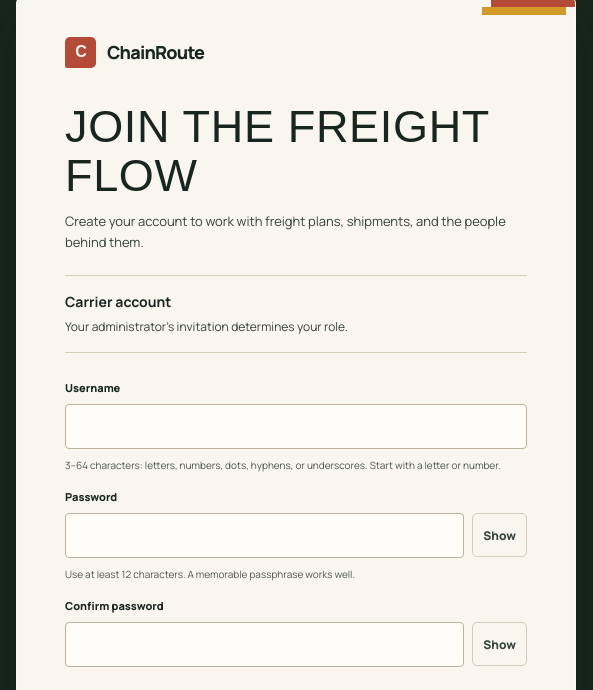
account signup › recovers when an invitation becomes unavailable after preview
expect the text "Carrier account" is shown: met, box x1=65 y1=292 x2=171 y2=311
Type "new.shipper" into the field labelled "Username". click: (296, 426)
box: x1=65 y1=404 x2=527 y2=449
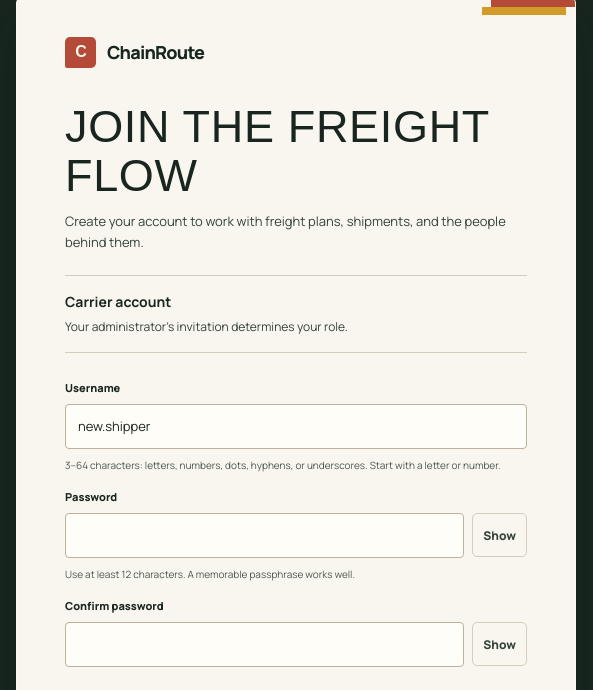
Type "my long freight passphrase" into the password field labelled "Password". click: (265, 536)
box: x1=65 y1=513 x2=464 y2=558
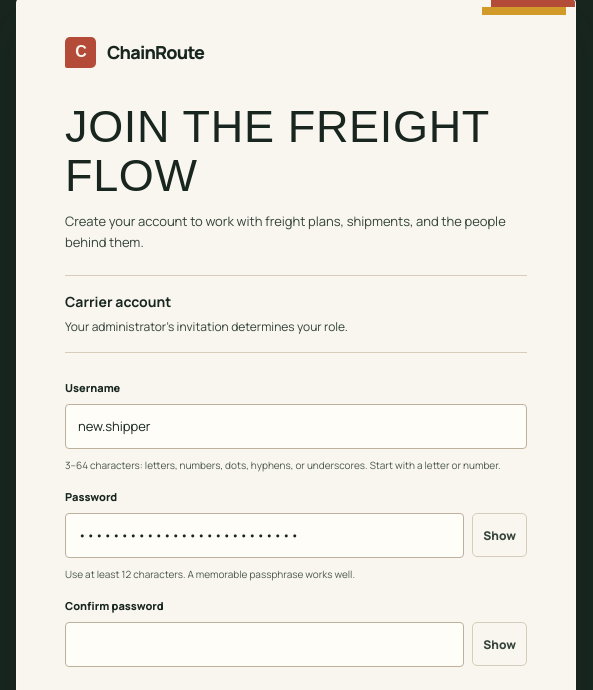
Type "my long freight passphrase" into the password field labelled "Confirm password". click: (265, 644)
box: x1=65 y1=622 x2=464 y2=667
(page scrolled)
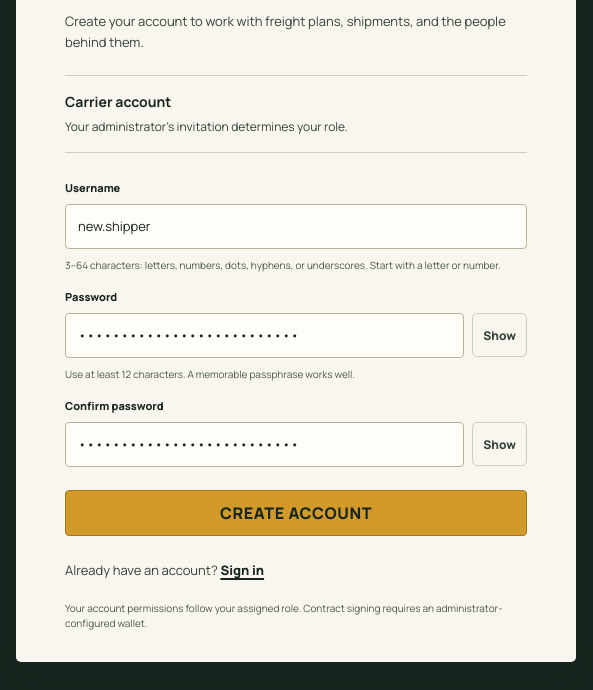
Click the button "Create account". click: (296, 513)
box: x1=65 y1=490 x2=527 y2=536
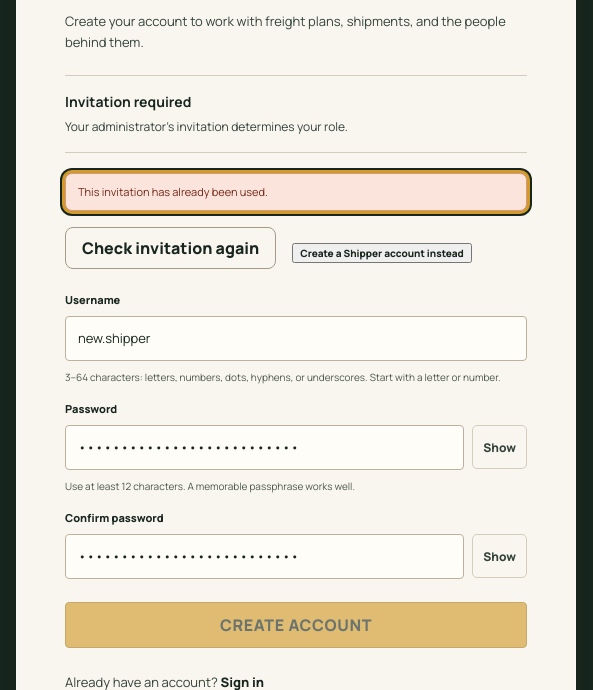
expect the message "This invitation has already been used." is shown: met, box x1=65 y1=173 x2=527 y2=211
expect the button "Create account" is disabled: met, box x1=65 y1=602 x2=527 y2=648
expect the button "Create a Shipper account instead" is enabled: met, box x1=292 y1=243 x2=472 y2=263
